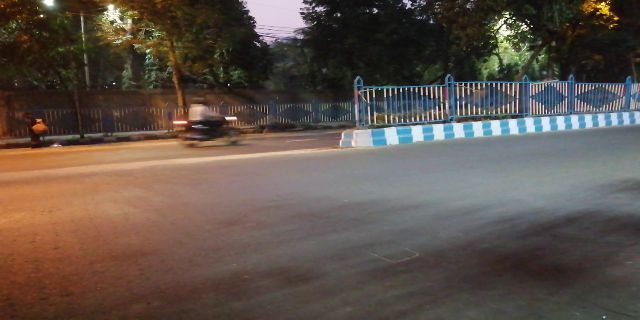Motorbike: (170, 100, 241, 148)
